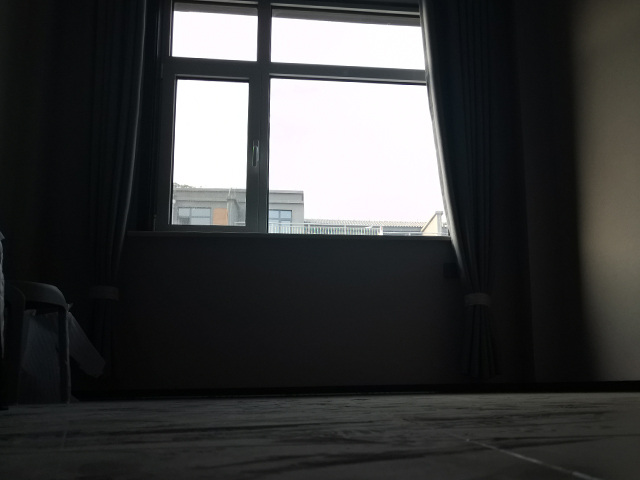curtain: (419, 1, 505, 383), (71, 1, 152, 384)
stool: (1, 279, 72, 406)
